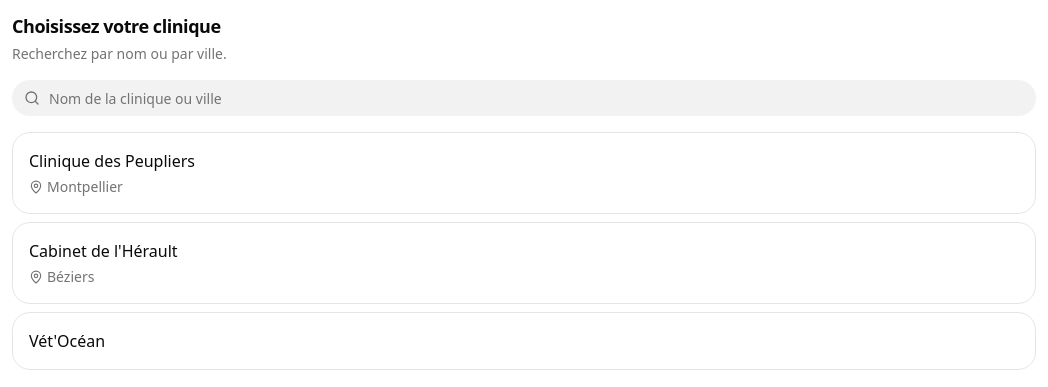
Test: StepClinic — recherche › filtre par ville
This screenshot has width=1048, height=387.
In the search field named "Rechercher une clinique": [524, 98] box [12,80,1036,116], type "beziers"
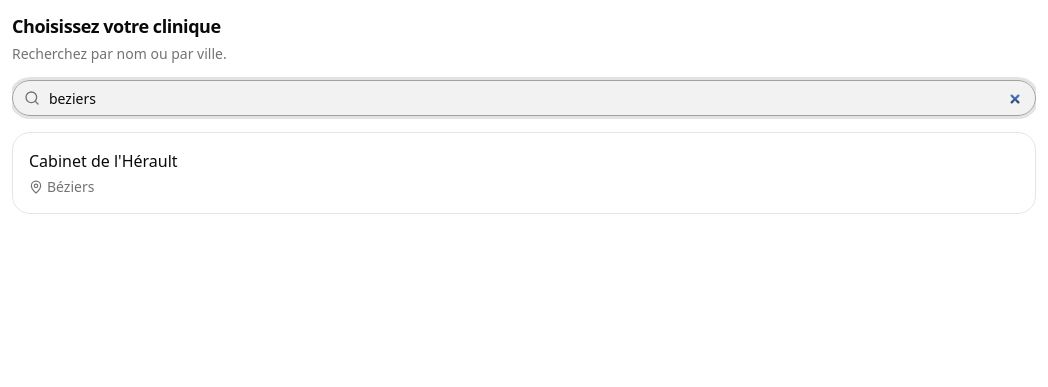
expect the text "Cabinet de l'Hérault" is shown: met, box [29,149,178,173]
expect the button "Clinique des Peupliers" is gone: met
